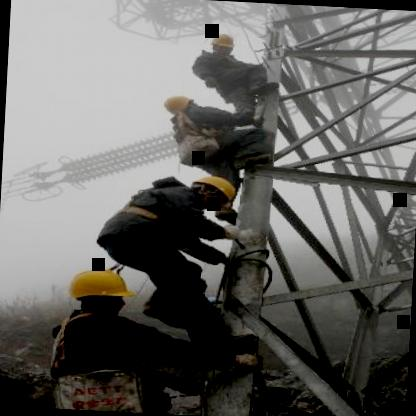helmet: (58, 262, 138, 318), (183, 170, 240, 210), (165, 93, 206, 118), (206, 26, 238, 54)
